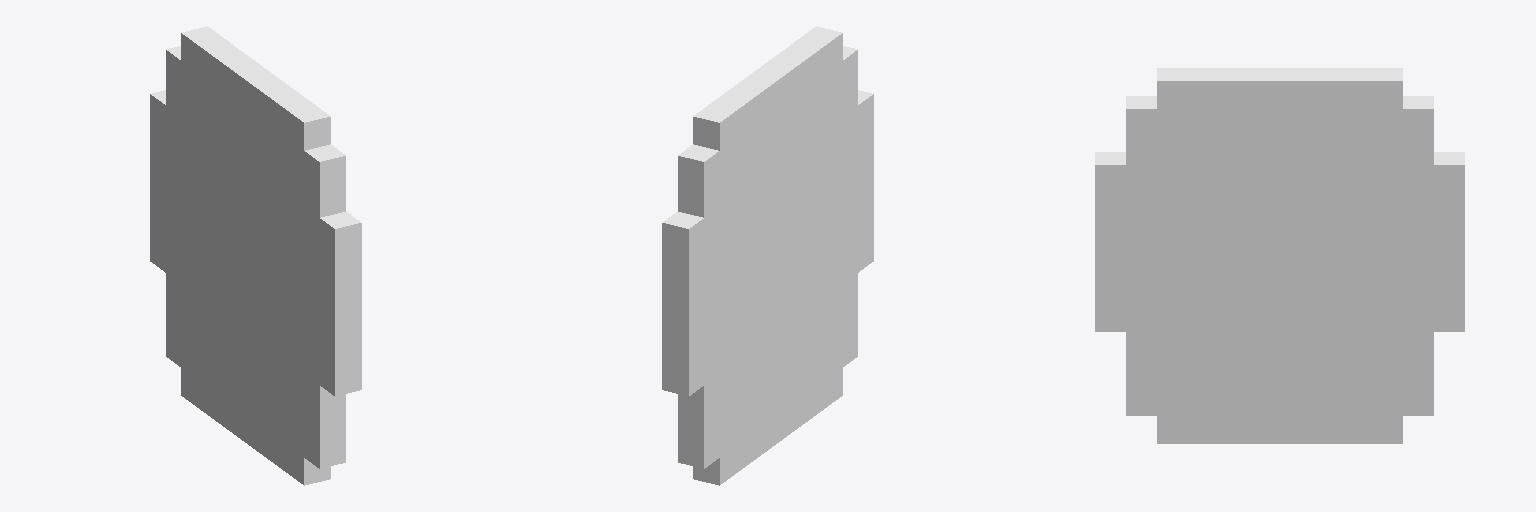
The model's file is MokeyRobotBrokenEarCover.obj.
3 renders of one model, left to right at view 1: azimuth 30°, elevation 25°; view 2: azimuth 150°, elevation 25°; view 3: azimuth 270°, elevation 25°, orthographic.
Visible parts, largest first — view 1: object 1; view 2: object 1; view 3: object 1.
Boxes of the visible parts, box(x1,y1,x2,y2) form: object 1: box(150, 26, 361, 485); object 1: box(662, 26, 873, 485); object 1: box(1095, 68, 1464, 443).
Size of the model in its own units: 0.1 by 1.3 by 1.2.